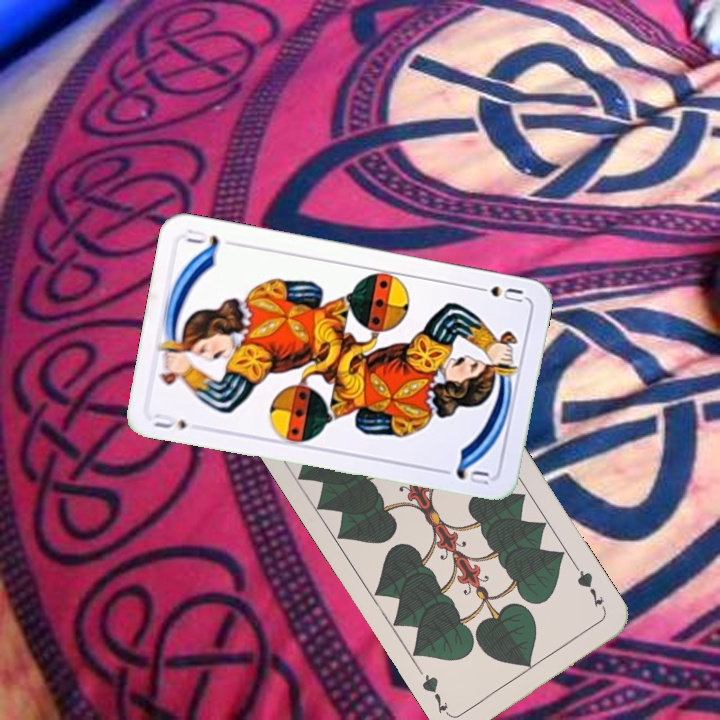G7: (571, 562, 609, 615)
SU: (469, 281, 525, 305), (149, 409, 190, 432)
